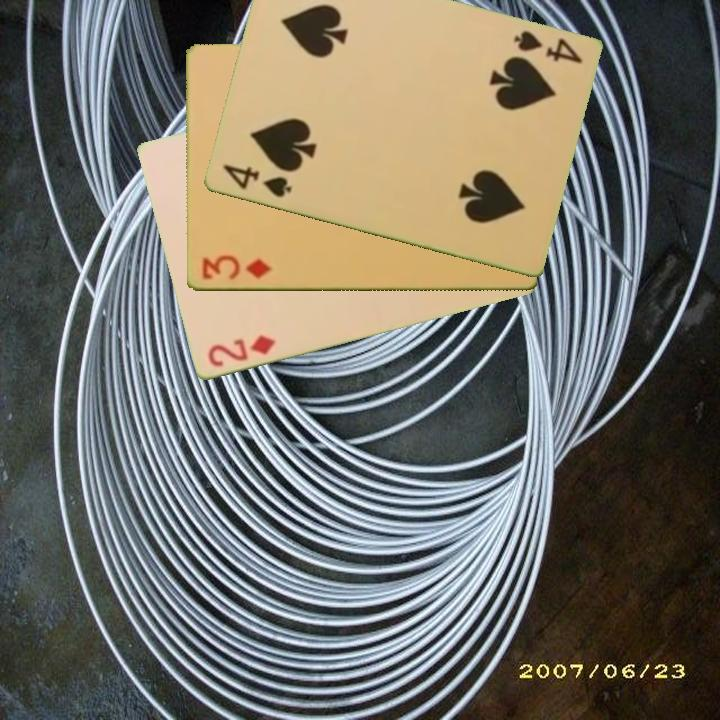2d: (204, 332, 279, 371)
3d: (198, 253, 275, 283)
4s: (509, 27, 585, 67), (219, 161, 294, 201)
